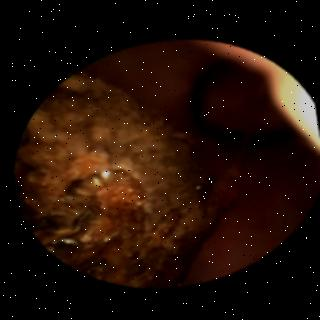stone: (18, 74, 231, 284)
tissue: (99, 43, 318, 280)
